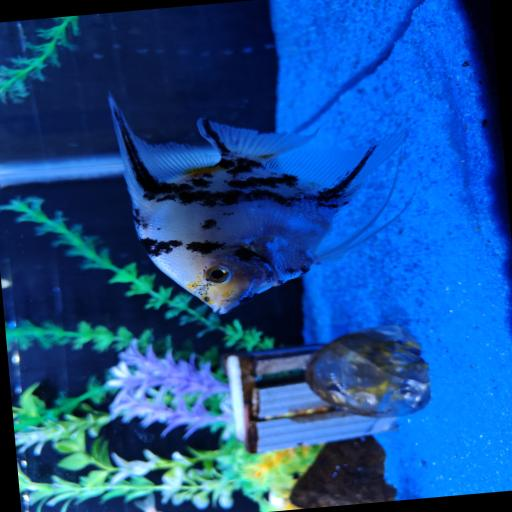Fish: (110, 97, 404, 313), (135, 494, 160, 511), (17, 21, 27, 51)
